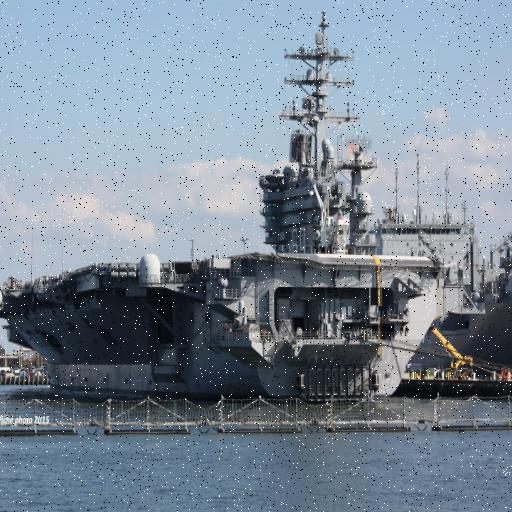Portanaves: (1, 1, 479, 412)
